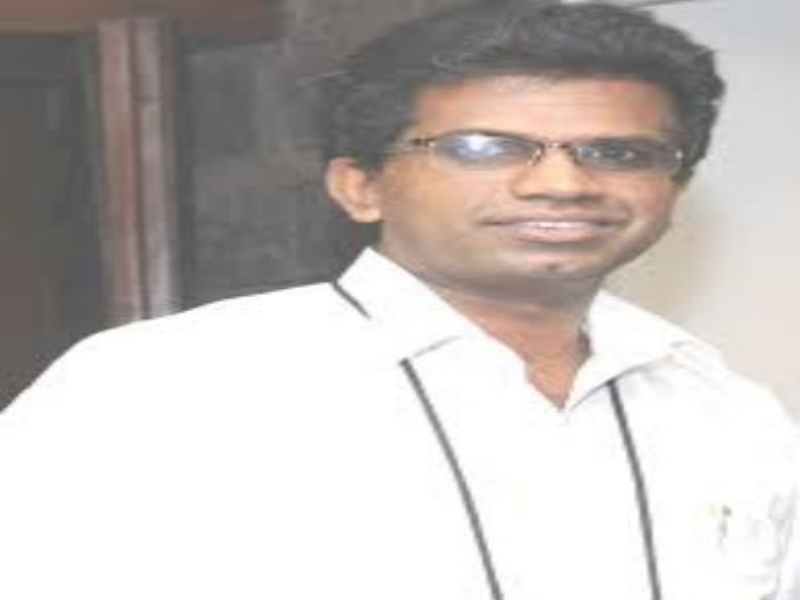TsisyArotava: (321, 5, 718, 326)
